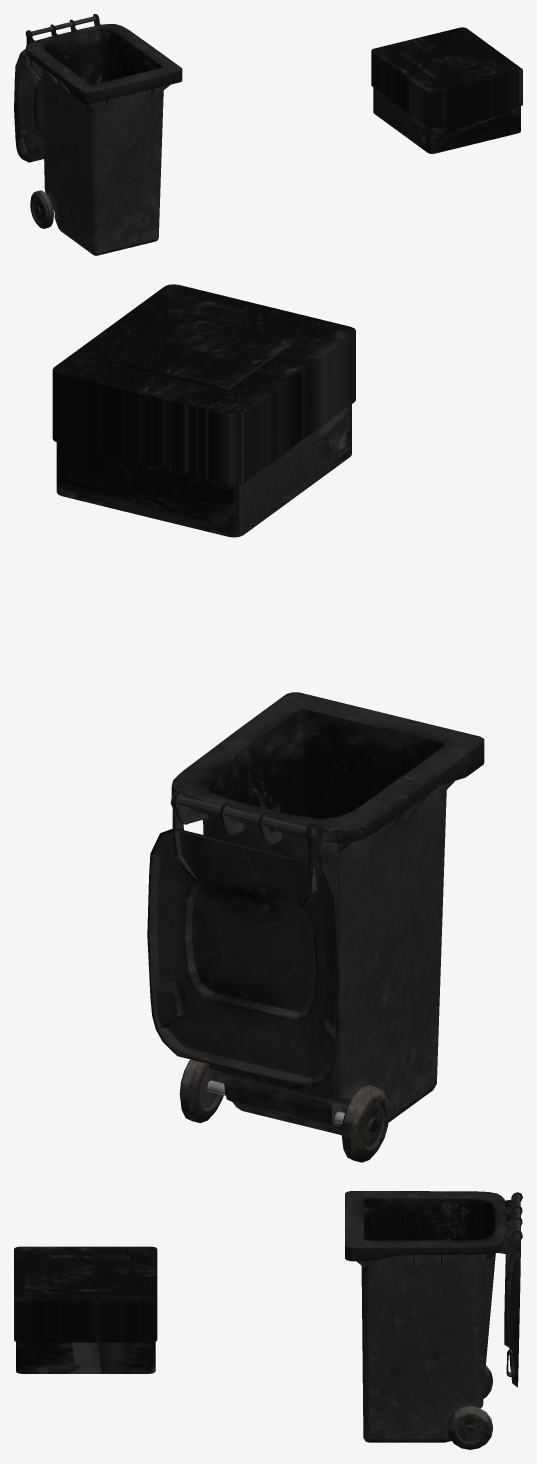
The model's file is SHOP FRONT BIN.fbx.
The picture shows the model from 3 angles, top to bottom: view 1: azimuth 30°, elevation 25°; view 2: azimuth 150°, elevation 25°; view 3: azimuth 270°, elevation 25°; orthographic projection. The views are drawn at different scales.
Parts seen in each view (by area): view 1: SHOP_FRONT_BIN1, pCube3; view 2: SHOP_FRONT_BIN1, pCube3; view 3: SHOP_FRONT_BIN1, pCube3.
Part boxes in pixels (x1,y1,x2,y2): SHOP_FRONT_BIN1: (14,14,182,255); pCube3: (371,27,522,153); SHOP_FRONT_BIN1: (147,692,484,1162); pCube3: (52,284,355,537); SHOP_FRONT_BIN1: (345,1191,522,1449); pCube3: (14,1246,157,1373).
Size of the model in its own units: 2.05 by 1.49 by 2.55.
Materials: 1 (1 with a texture image).
